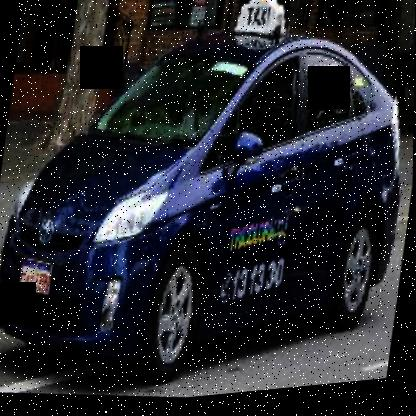not_emergency: (0, 0, 415, 408)
